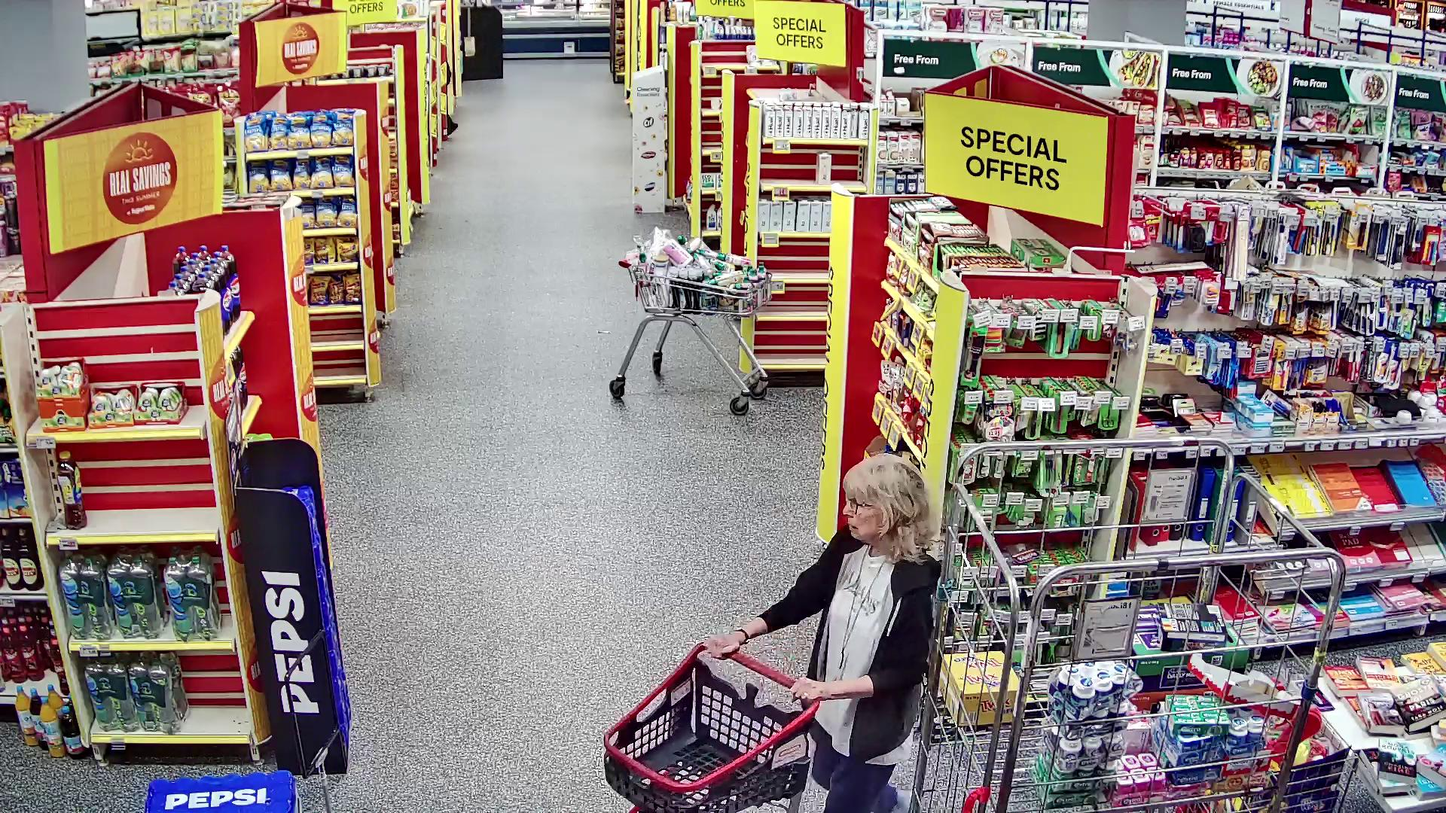empty-trolly: (604, 640, 821, 813)
person: (705, 453, 943, 807)
person-with-empty-basket-trolly: (603, 451, 943, 813)
